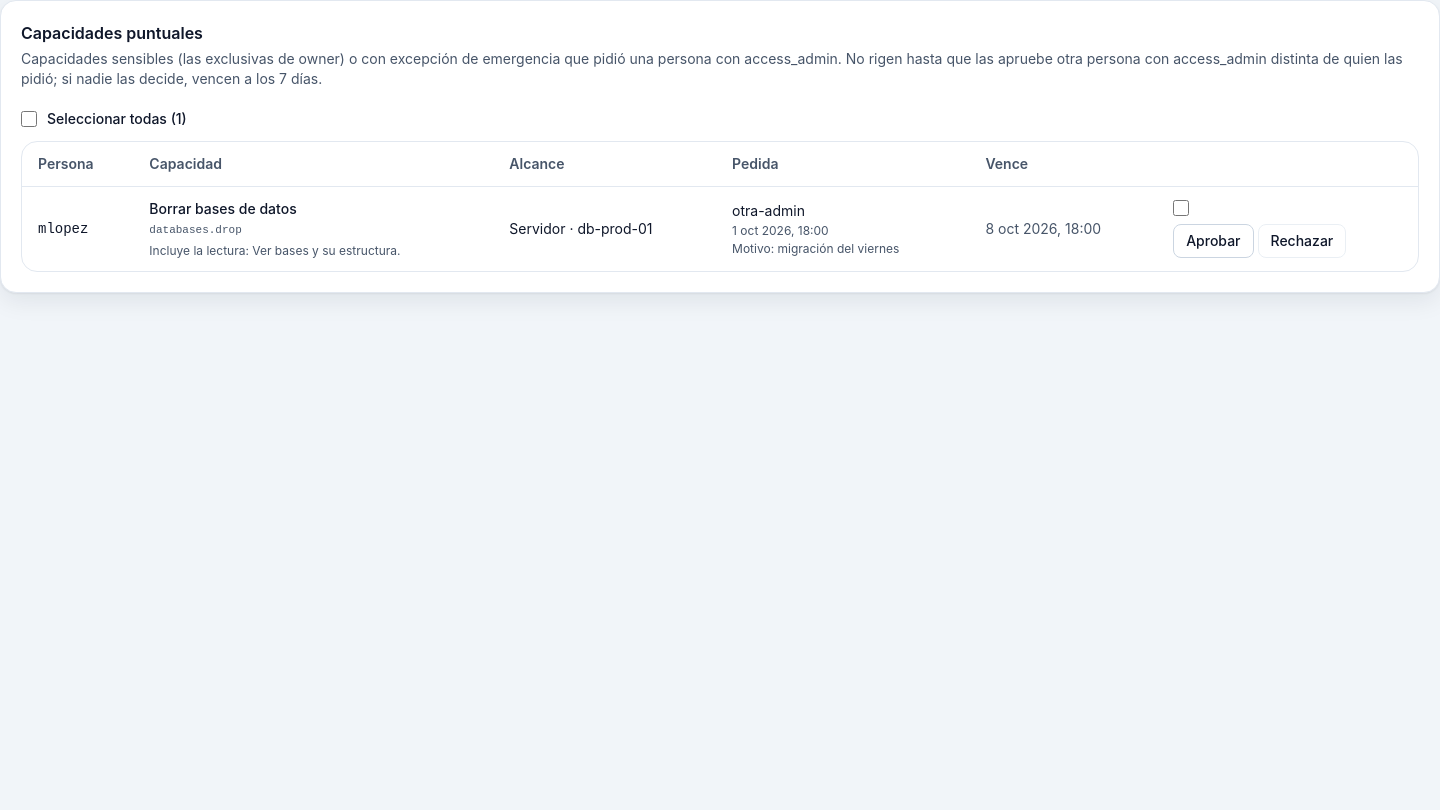
PendingCapabilityGrantsCard › un 409 tras una carrera queda en el diálogo, bloquea reintentar y refresca la bandeja
Click the button with aria-label "Aprobar:" at (1213, 241), box [1173,224,1254,258]
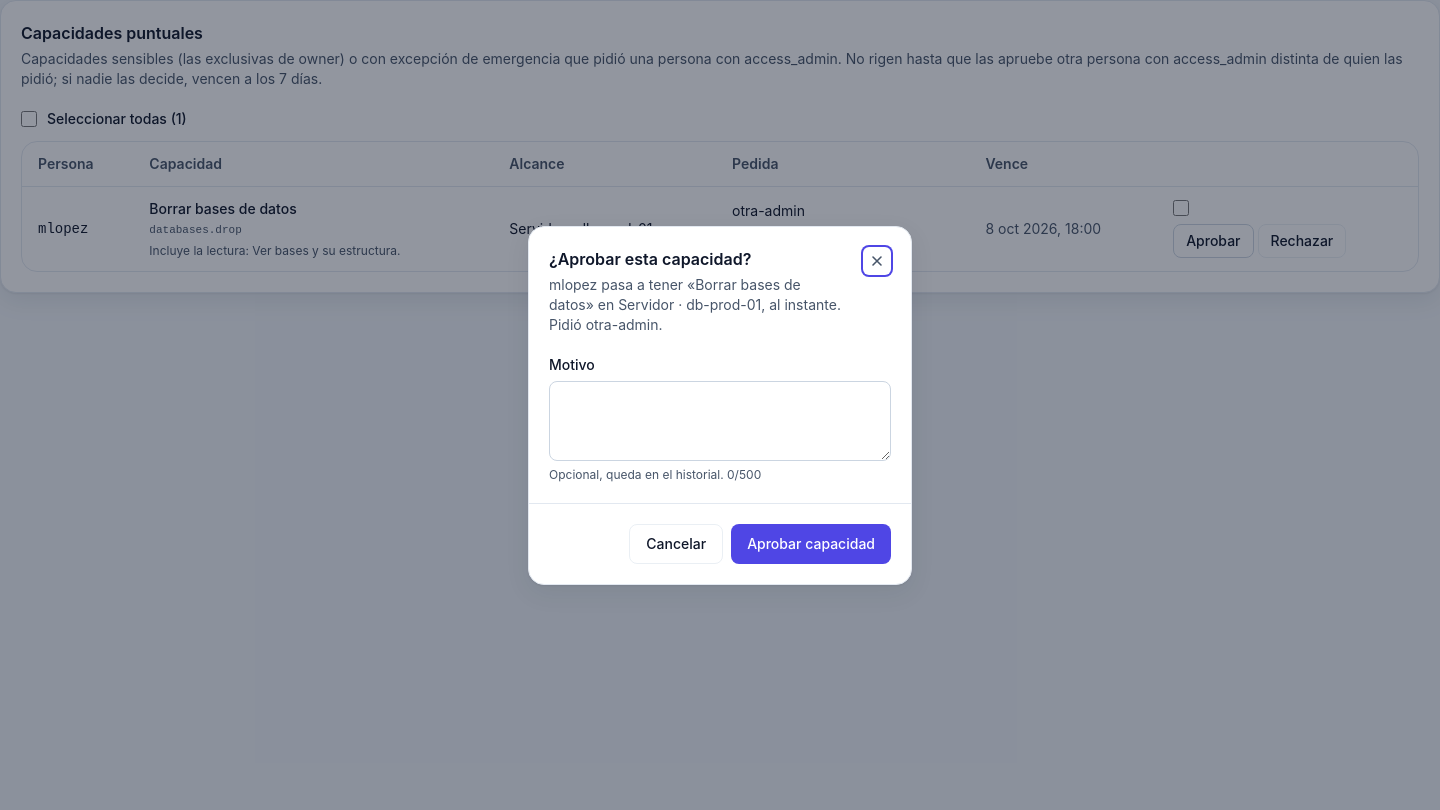
Result: the heading "¿Aprobar esta capacidad?" is shown at [549,248,751,268]
Click the button "Aprobar capacidad" at (811, 544), box [731,524,891,564]
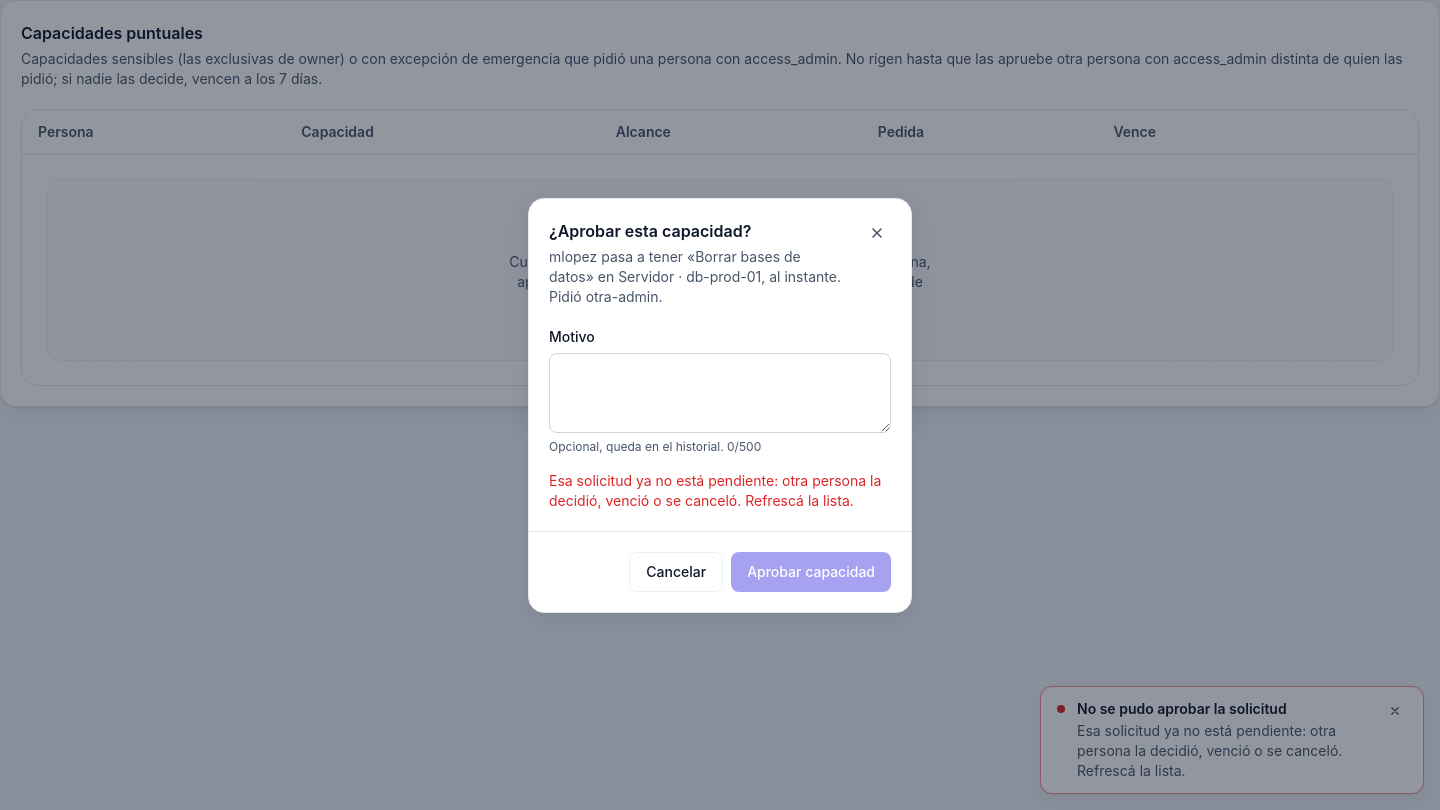
Result: the message shows "ya no está pendiente: otra persona la decidió" at [549,472,881,508]
Result: the button "Aprobar capacidad" is disabled at [731,552,891,592]
